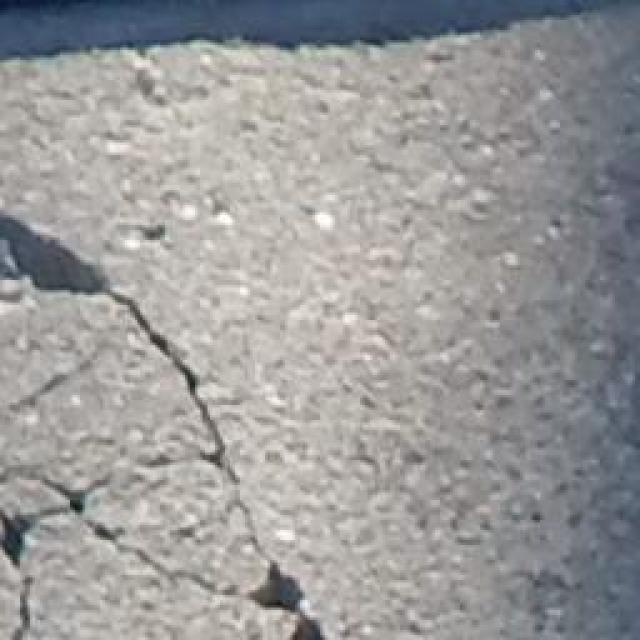concrete-crack: (1, 204, 330, 640), (3, 461, 241, 640)
